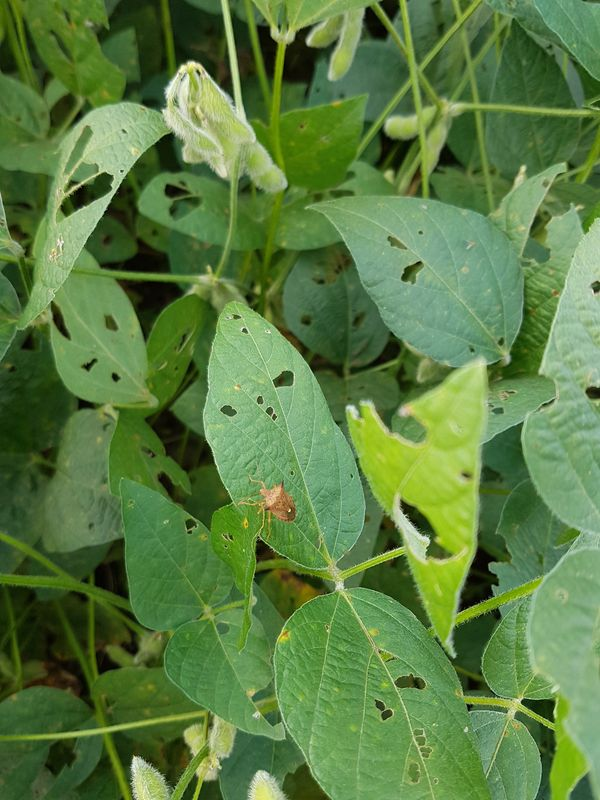Euschistus_heros_adulto: (236, 473, 304, 545)
